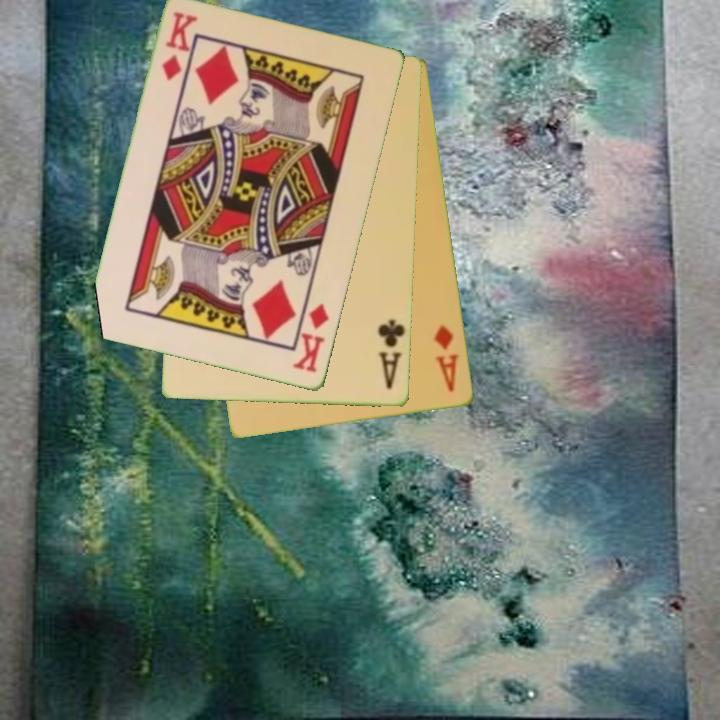Ac: (375, 317, 408, 393)
Ad: (431, 321, 462, 395)
Kd: (289, 300, 333, 376), (158, 9, 200, 84)
